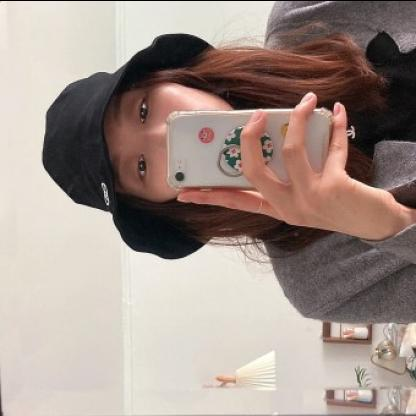hat: (38, 28, 230, 260)
